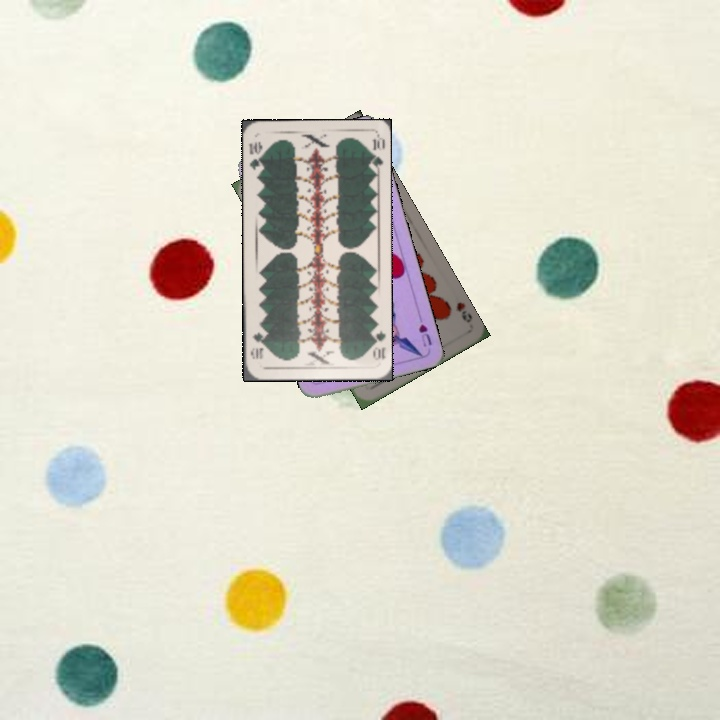G10: (367, 323, 387, 362), (245, 137, 265, 172)
H9: (451, 298, 475, 325)
HU: (414, 312, 434, 349)
